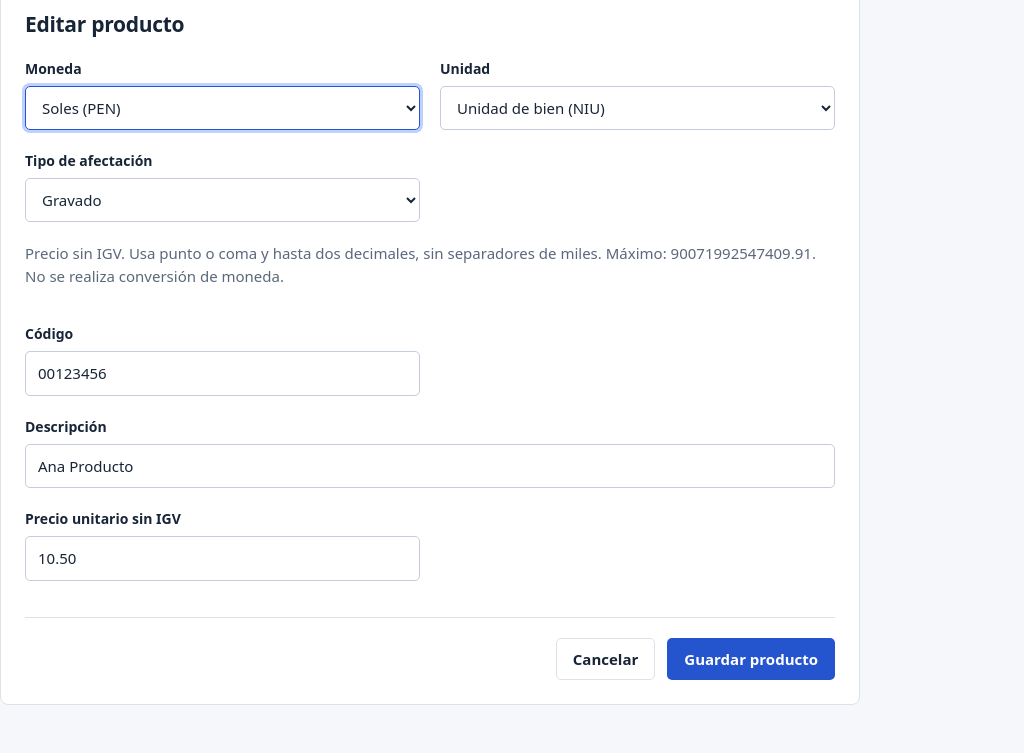
formulario de productos › conserva datos ante error 403
What coordinates should you click on to do the following:
click the button "Guardar producto"
I would click on:
 (751, 659)
Its box is [667,638,835,680].
(page scrolled)
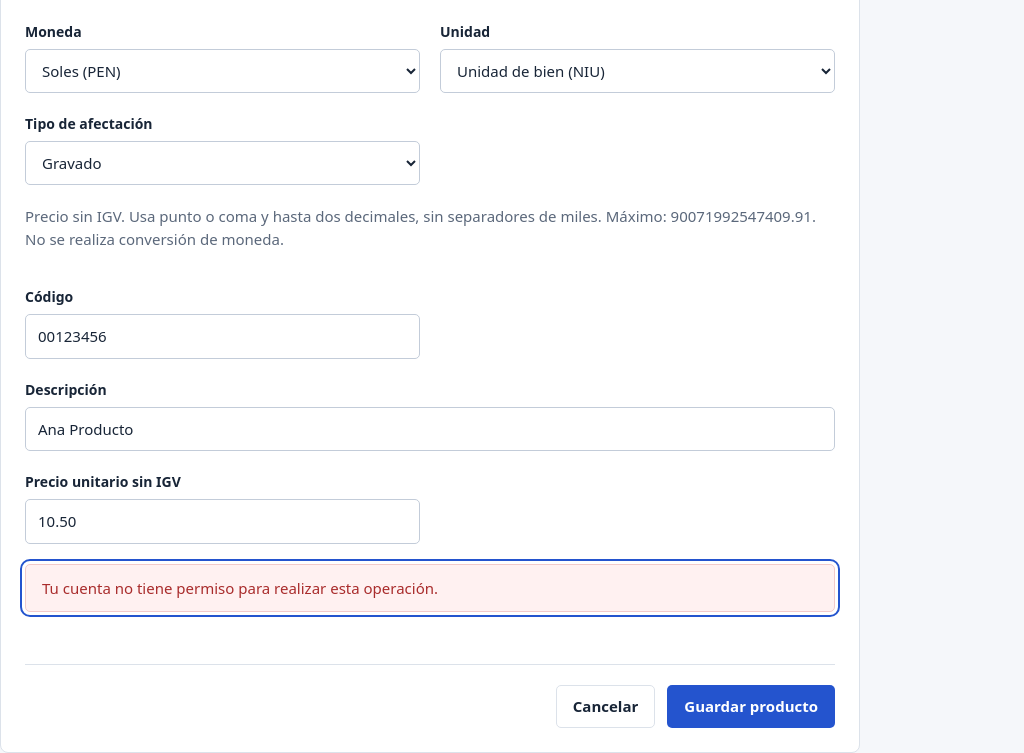
Expected: the field labelled "Código" holds "00123456", [25,314,420,359]
Expected: the message "Tu cuenta no tiene permiso para realizar esta operación." is shown, [25,564,835,612]
